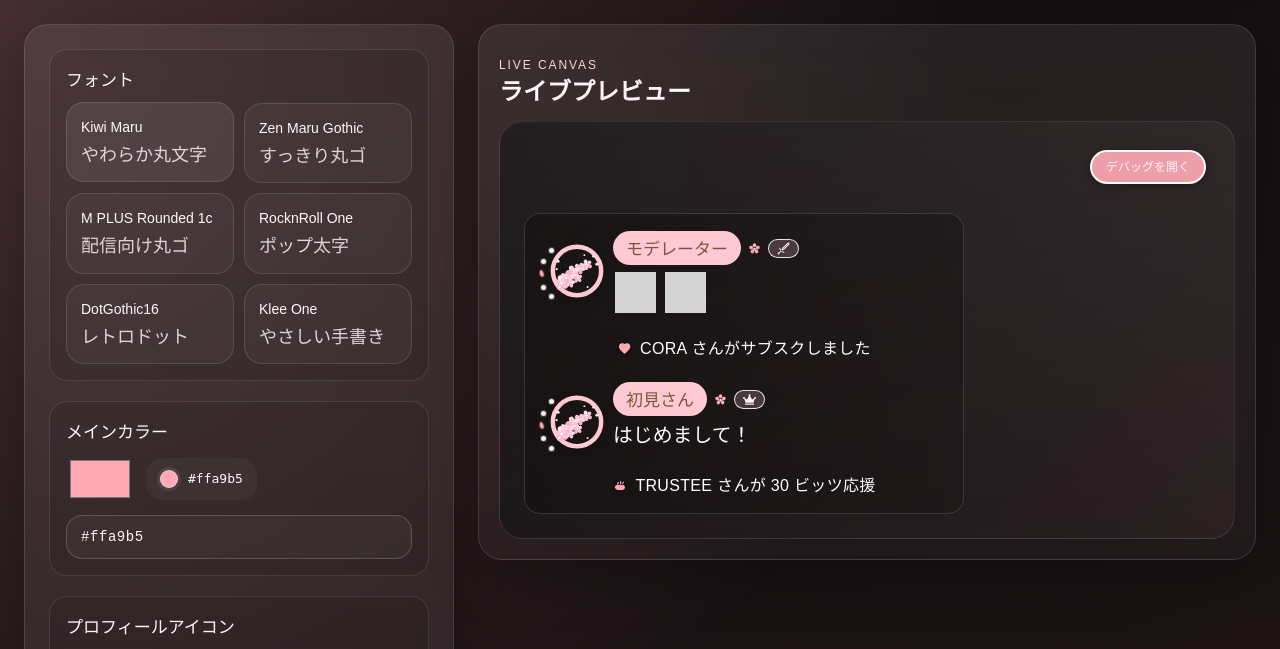
it: App customizer › accepts manual hex color input and syncs the embedded preview state
In the field named "メインカラーコード": [239, 537] box [66,515,412,559], type "#225588"
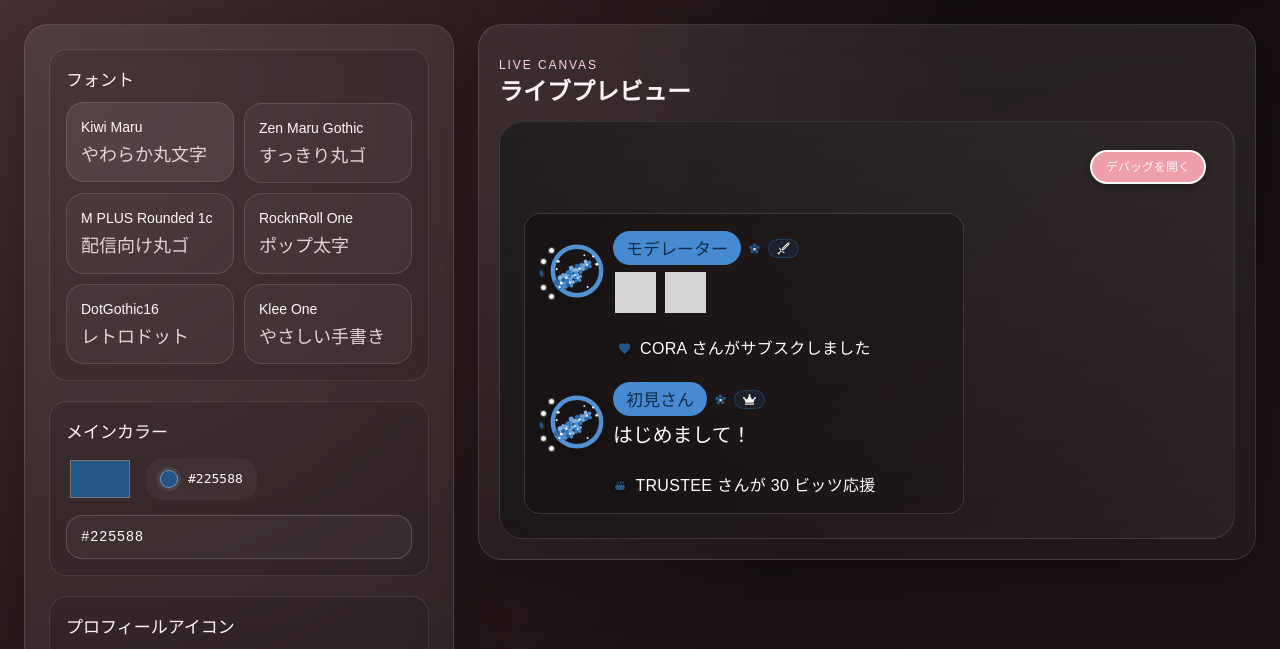
Result: the colour field named "メインカラー" holds "#225588" at [66,455,134,503]
